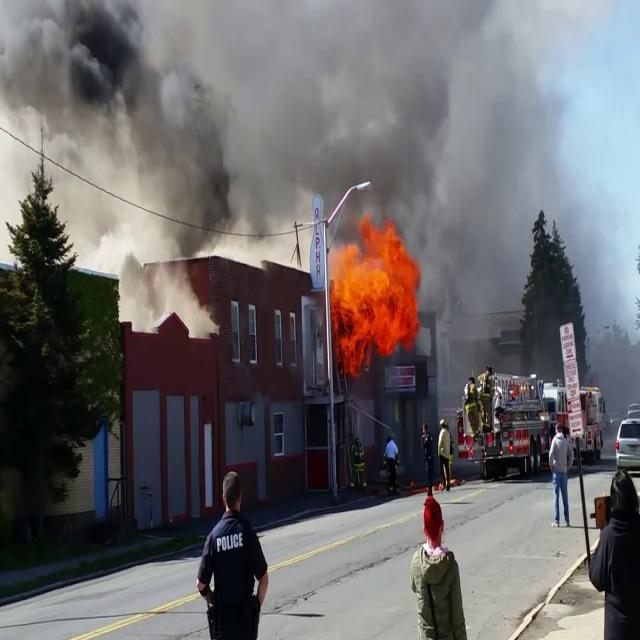Fire: (329, 222, 425, 360)
Smoke: (112, 0, 508, 248)
